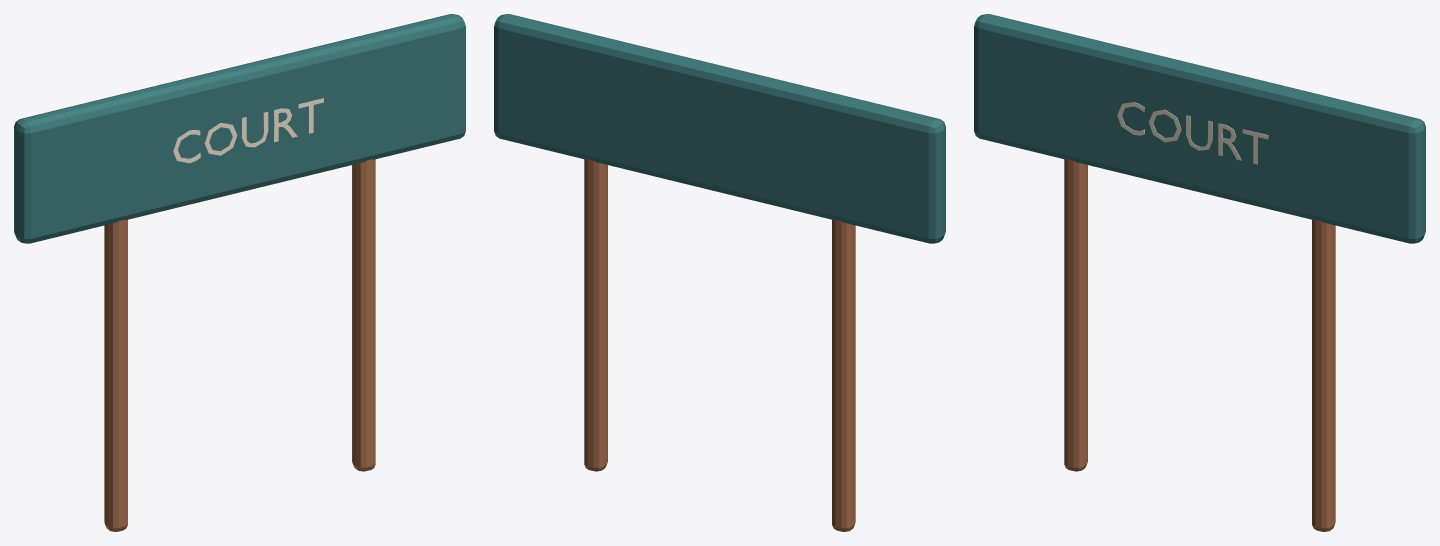
Rendered from court_sign.glb.
3 renders of one model, left to right at view 1: azimuth 30°, elevation 25°; view 2: azimuth 150°, elevation 25°; view 3: azimuth 330°, elevation 25°, orthographic.
Visible parts, largest first — view 1: court_sign_Mesh; view 2: court_sign_Mesh; view 3: court_sign_Mesh.
Boxes of the visible parts, box(x1,y1,x2,y2) form: court_sign_Mesh: box(14, 14, 465, 531); court_sign_Mesh: box(494, 14, 945, 531); court_sign_Mesh: box(974, 14, 1425, 531).
Size of the model in its own units: 1.8 by 1.66 by 0.101.
